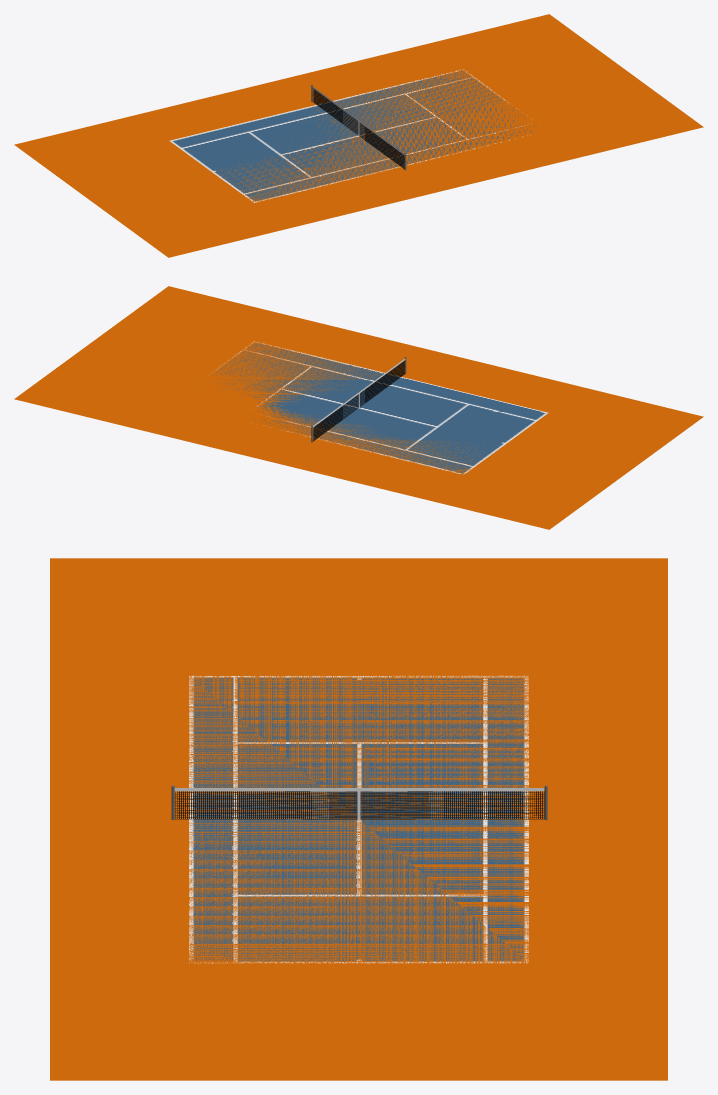
Rendered from tennis_court.glb.
3 renders of one model, top to bottom at view 1: azimuth 30°, elevation 25°; view 2: azimuth 150°, elevation 25°; view 3: azimuth 270°, elevation 25°, orthographic. The views are drawn at different scales.
Parts seen in each view (by area): view 1: Plane.001, Plane, Plane.003; view 2: Plane.001, Plane, Plane.003; view 3: Plane.001, Plane, Plane.003.
Boxes of the visible parts, x1=… form: Plane.001: x1=14, y1=14, x2=703, y2=257; Plane: x1=169, y1=69, x2=536, y2=202; Plane.003: x1=312, y1=86, x2=404, y2=168; Plane.001: x1=14, y1=286, x2=703, y2=529; Plane: x1=211, y1=341, x2=548, y2=474; Plane.003: x1=313, y1=359, x2=405, y2=441; Plane.001: x1=50, y1=558, x2=667, y2=1080; Plane: x1=189, y1=675, x2=528, y2=963; Plane.003: x1=174, y1=788, x2=544, y2=819.
Size of the model in its own units: 40 by 1.2 by 20.
5 materials, 1 textured.
